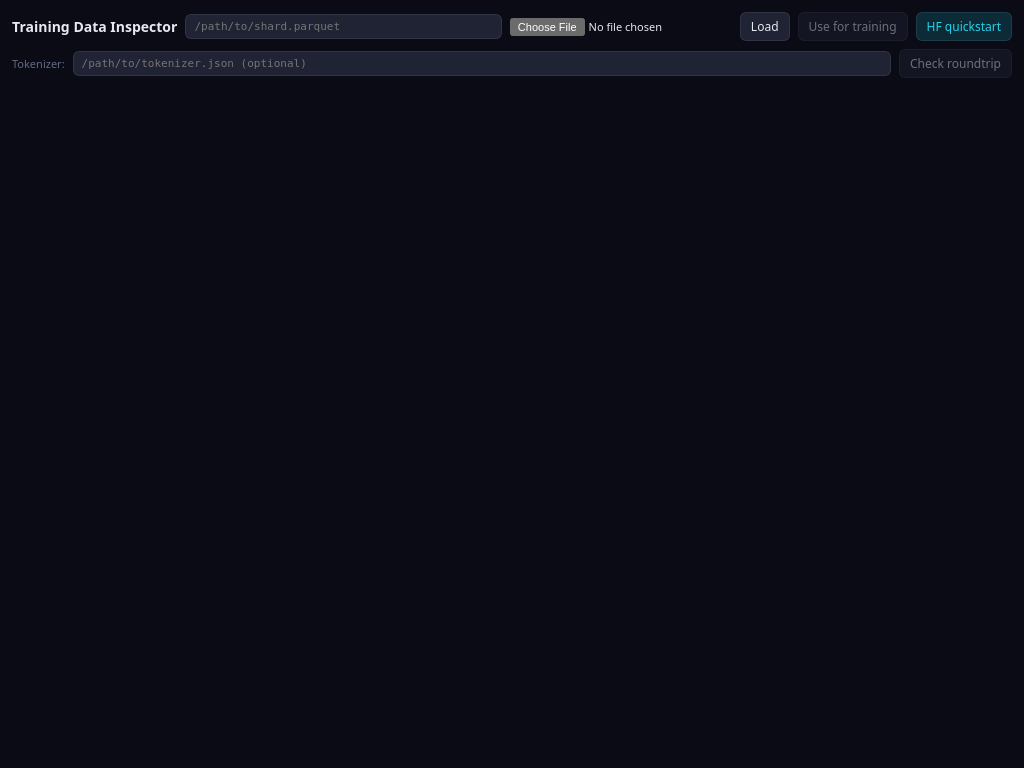
Scenario: DataInspector roundtrip badge (E7-3-UI) › Check roundtrip → per-row OK/FAIL badges appear
Type "/p.parquet" into the field with test id "data-path".
click(344, 26); type("/p.parquet")  # box [185, 14, 502, 39]
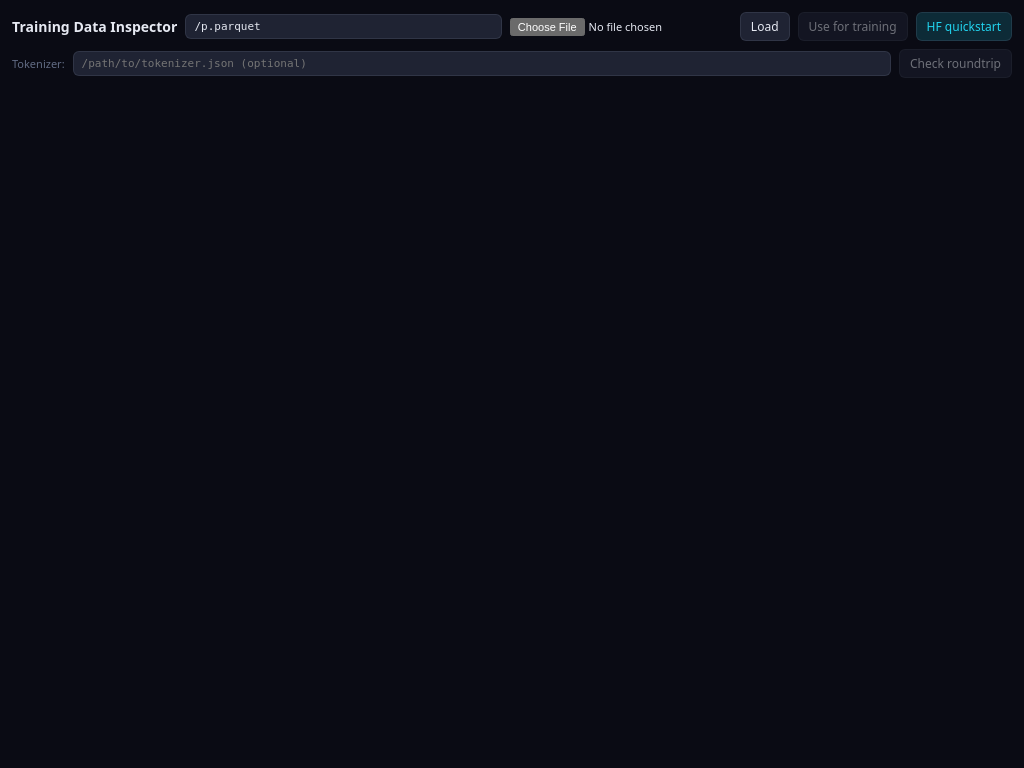
Click the button with test id "data-load".
click(765, 26)  # box [740, 12, 790, 41]
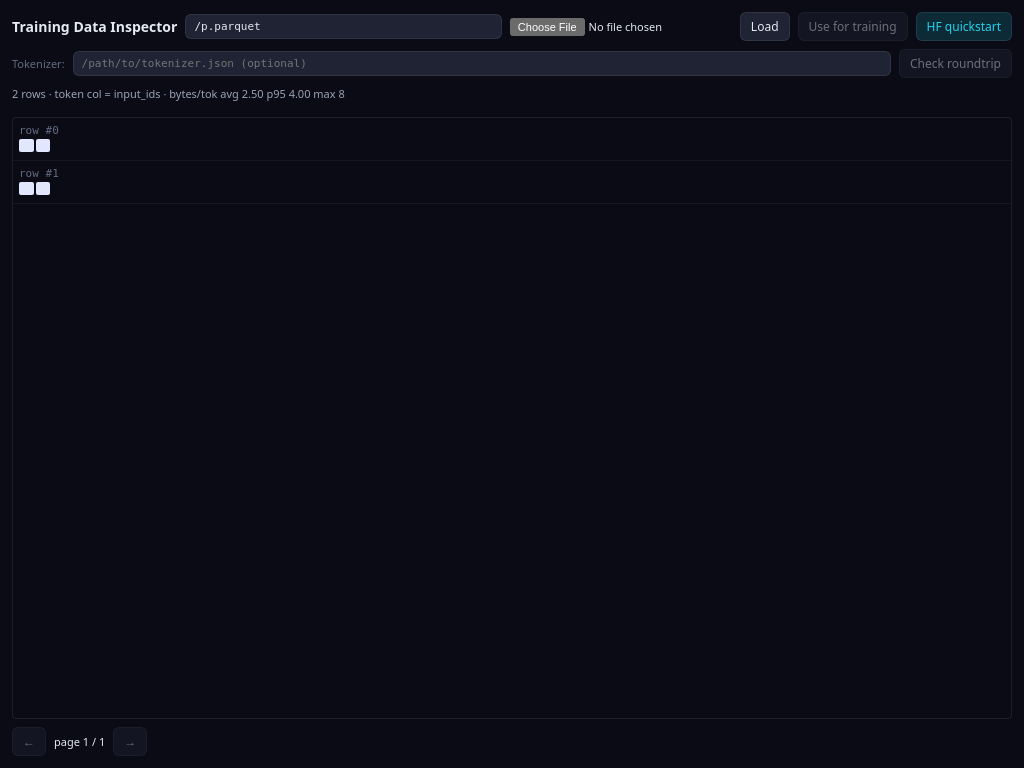
Expected: the element with test id "data-row-0" is shown, [13, 118, 1011, 161]
Type "/tok.json" into the field with test id "data-tokenizer-path".
click(482, 64); type("/tok.json")  # box [73, 51, 891, 76]
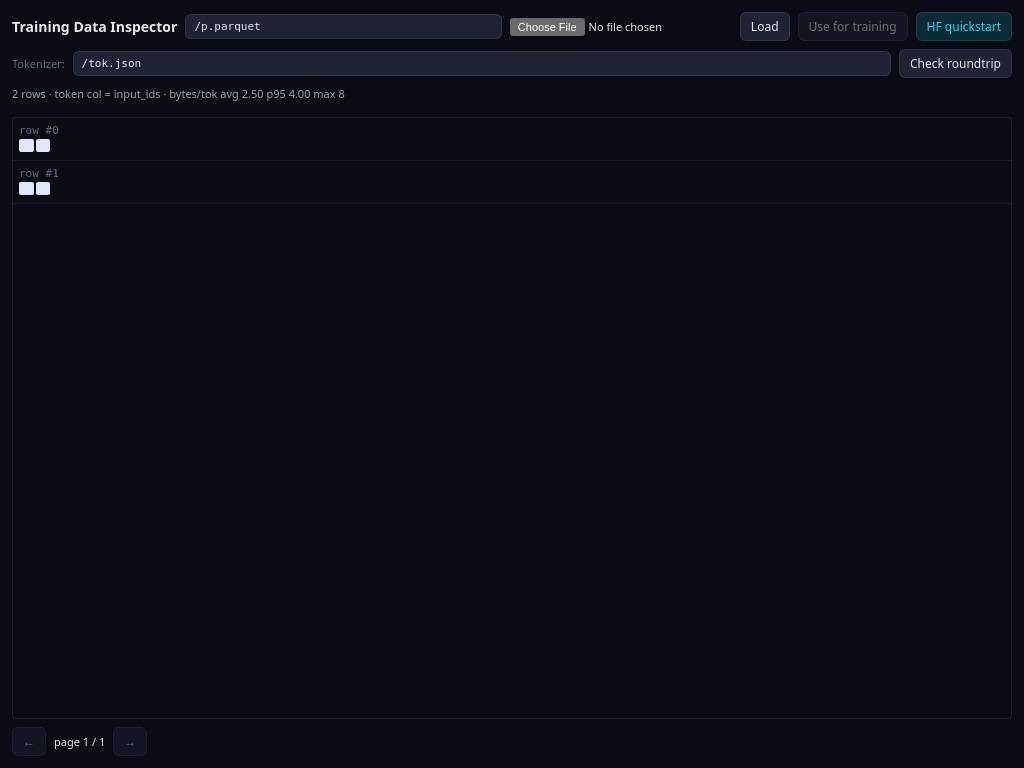
Click the button with test id "data-roundtrip".
click(956, 64)  # box [899, 49, 1012, 78]
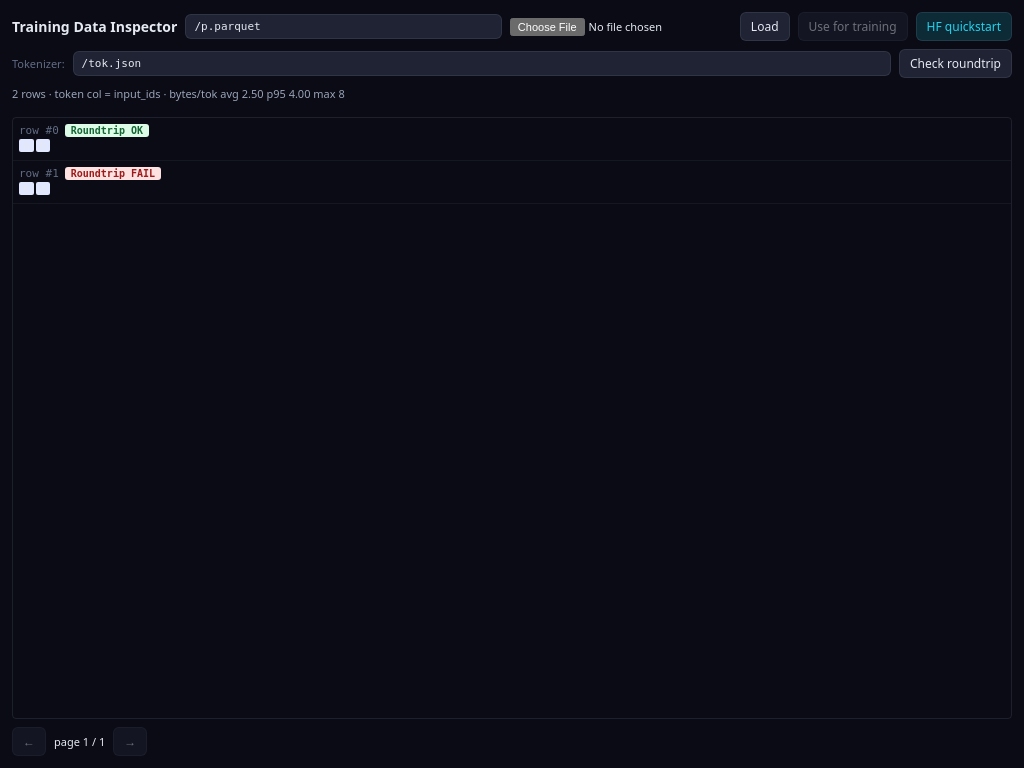
Expected: the text "Roundtrip OK" is shown, [65, 124, 149, 137]
Expected: the text with test id "data-roundtrip-0" shows "OK", [131, 125, 143, 136]
Expected: the text with test id "data-roundtrip-1" shows "FAIL", [131, 168, 155, 179]
